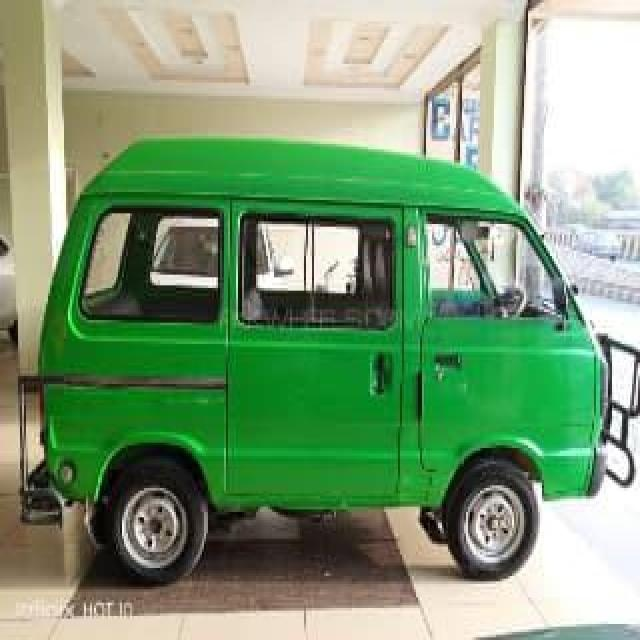Van: (32, 136, 640, 589)
